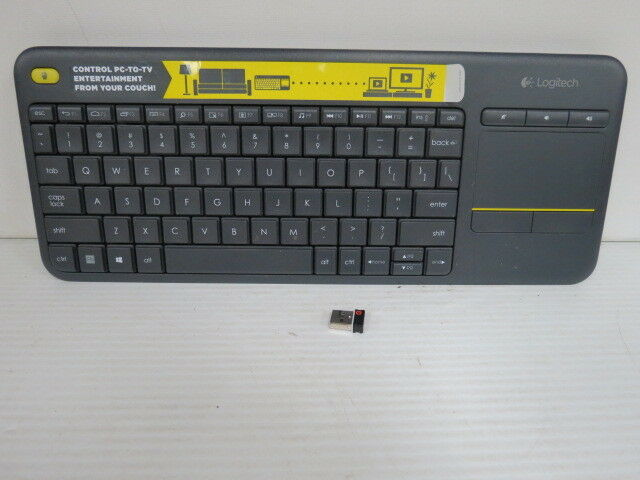logitech-keyboard-k400: (17, 52, 630, 283)
